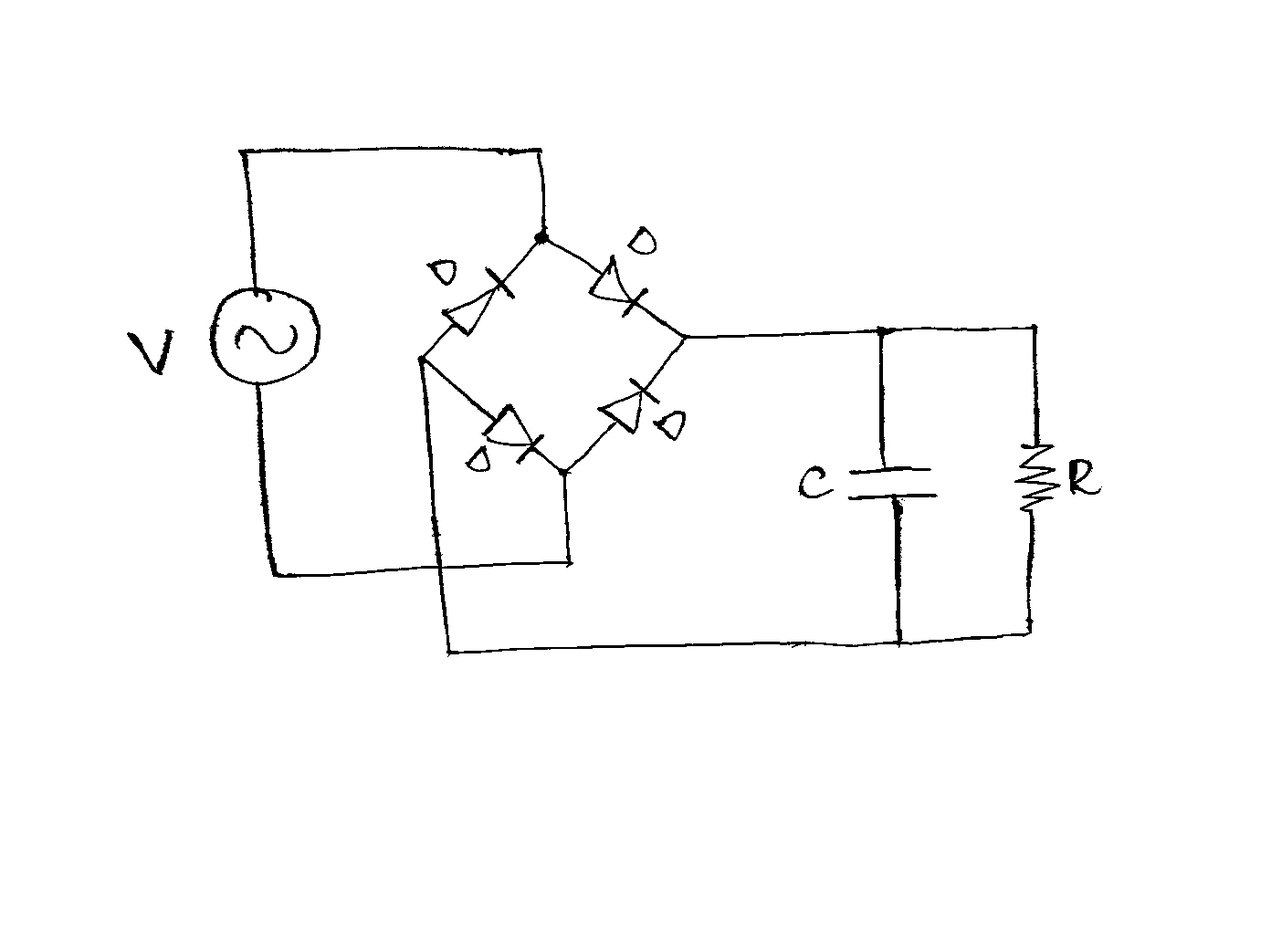capacitor.unpolarized: (843, 457, 941, 506)
crossover: (429, 559, 450, 575)
diode: (439, 266, 518, 339), (480, 401, 547, 467), (585, 253, 650, 320), (595, 375, 663, 437)
junction: (529, 225, 556, 249), (524, 140, 552, 163), (412, 347, 435, 370), (233, 142, 257, 163), (558, 549, 578, 572), (1018, 622, 1039, 642), (1022, 319, 1043, 339), (553, 463, 574, 481), (441, 642, 459, 662), (887, 636, 910, 651), (673, 330, 691, 349), (872, 322, 889, 340), (266, 566, 283, 583)
resistor: (1008, 440, 1063, 515)
text: (128, 325, 176, 378), (1066, 456, 1103, 500), (798, 461, 835, 503), (650, 406, 688, 442), (625, 224, 660, 260), (425, 256, 461, 288), (462, 444, 493, 476)
voltage.ac: (205, 285, 322, 388)
